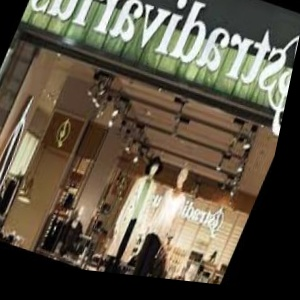stradivarius: (39, 48, 292, 287), (31, 37, 128, 196)
